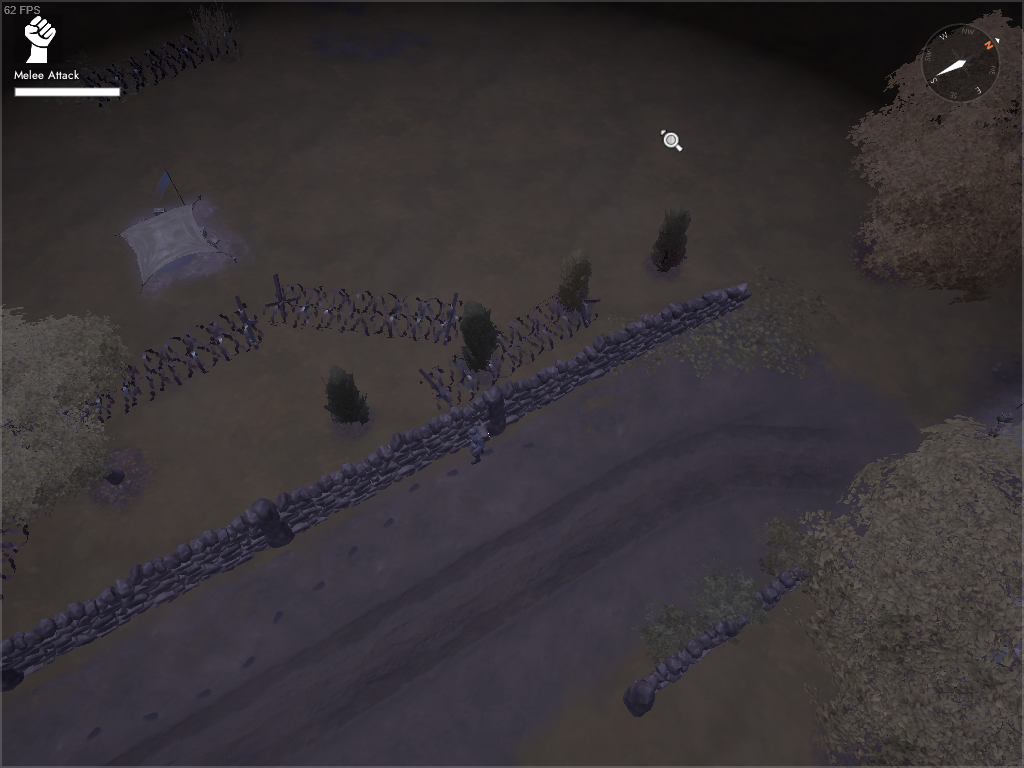foxhole: (106, 168, 241, 297)
player: (465, 420, 492, 467)
wire: (41, 300, 265, 444), (414, 289, 601, 411), (259, 274, 468, 348), (75, 16, 241, 109)
